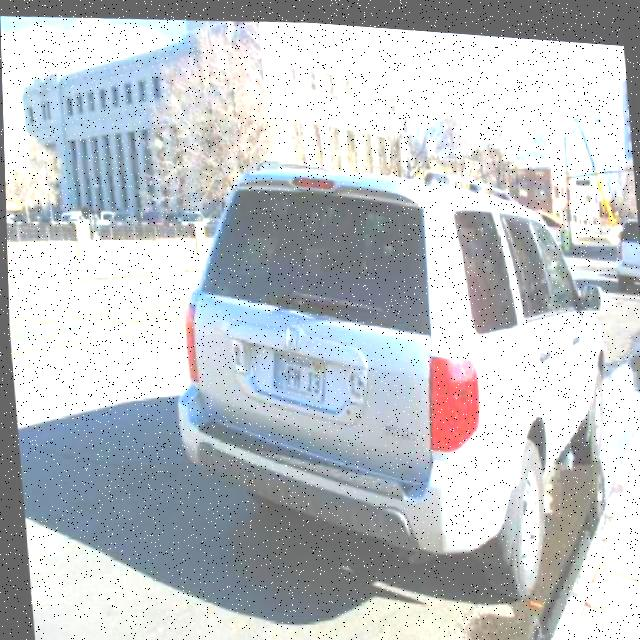license_plate: (267, 345, 326, 400)
